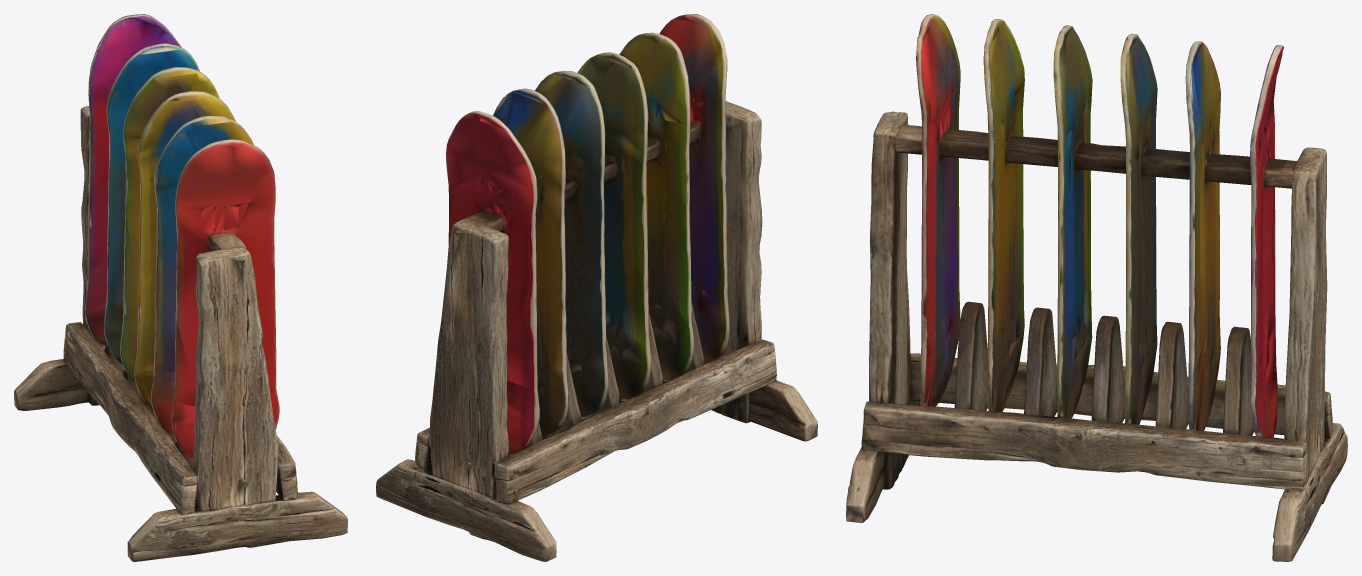
The model's file is CCG_DeckRack_web.glb.
3 views of the same model, side by side, from view 1: azimuth 30°, elevation 25°; view 2: azimuth 150°, elevation 25°; view 3: azimuth 270°, elevation 25° (orthographic). The views are drawn at different scales.
Parts seen in each view (by area): view 1: tripo_node_1bfab722-cfbf-4317-85f8-7a8badaede56; view 2: tripo_node_1bfab722-cfbf-4317-85f8-7a8badaede56; view 3: tripo_node_1bfab722-cfbf-4317-85f8-7a8badaede56.
Boxes of the visible parts, box(x1,y1,x2,y2) form: tripo_node_1bfab722-cfbf-4317-85f8-7a8badaede56: box(14, 14, 347, 561); tripo_node_1bfab722-cfbf-4317-85f8-7a8badaede56: box(376, 14, 817, 561); tripo_node_1bfab722-cfbf-4317-85f8-7a8badaede56: box(846, 14, 1347, 561).
Bounding box in the file's own units: 0.6823 × 0.9792 × 0.9727.
Materials: 1 (1 with a texture image).
